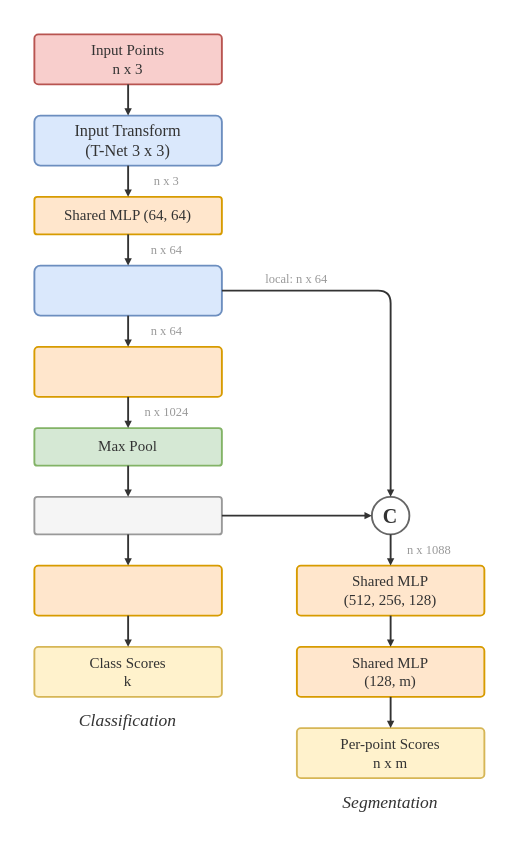
The diagram is 518 pixels wide and 849 high, and some of its shapes have lost their labels. Each missing label, with the centre of its shape:
"Feature Transform (T-Net 64 x 64)" belongs at (127,290).
"Global Feature (1024)" belongs at (127,515).
"MLP (512, 256, k)" belongs at (127,590).
"Shared MLP (64, 128, 1024)" belongs at (127,371).
